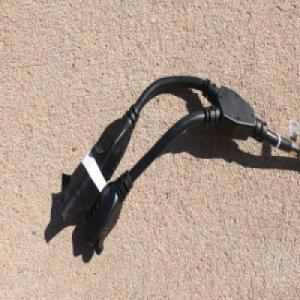Wire: (59, 73, 300, 258)
